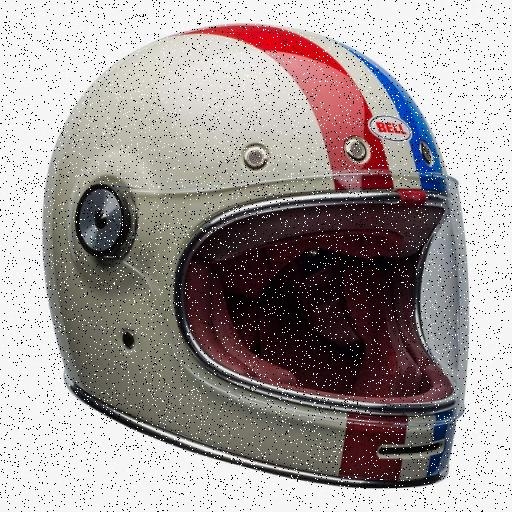Helmet: (42, 28, 470, 495)
